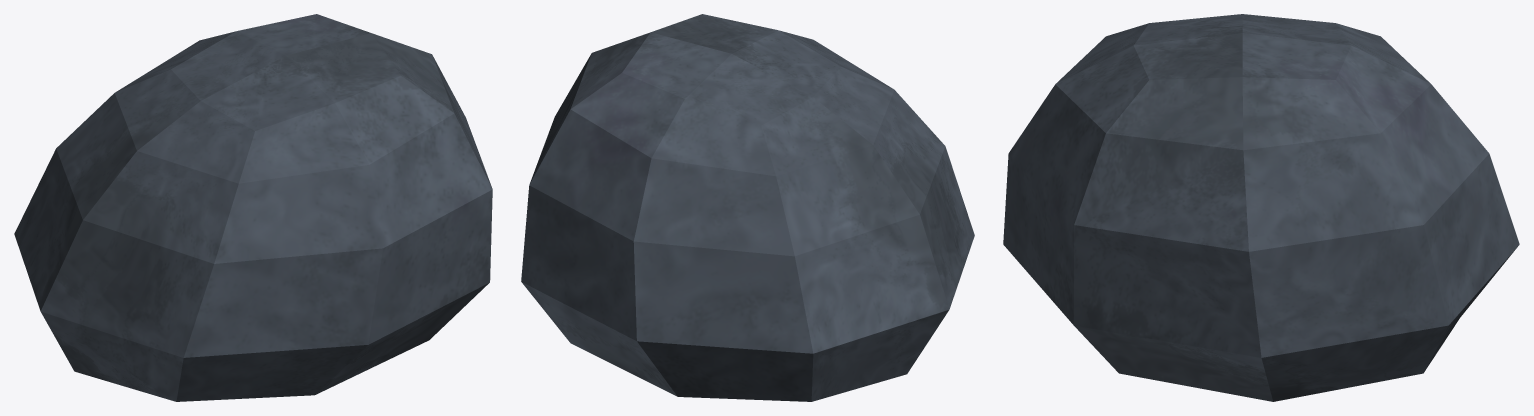
Rendered from mod_natural_rock4.fbx.
3 renders of one model, left to right at view 1: azimuth 30°, elevation 25°; view 2: azimuth 150°, elevation 25°; view 3: azimuth 270°, elevation 25°, orthographic. The views are drawn at different scales.
Visible parts, largest first — view 1: mesh_environment_rock4; view 2: mesh_environment_rock4; view 3: mesh_environment_rock4.
Part boxes in pixels (x1,y1,x2,y2): mesh_environment_rock4: [14, 14, 492, 401]; mesh_environment_rock4: [521, 14, 974, 401]; mesh_environment_rock4: [1003, 14, 1519, 401].
Bounding box in the file's own units: 385 × 267 × 368.
